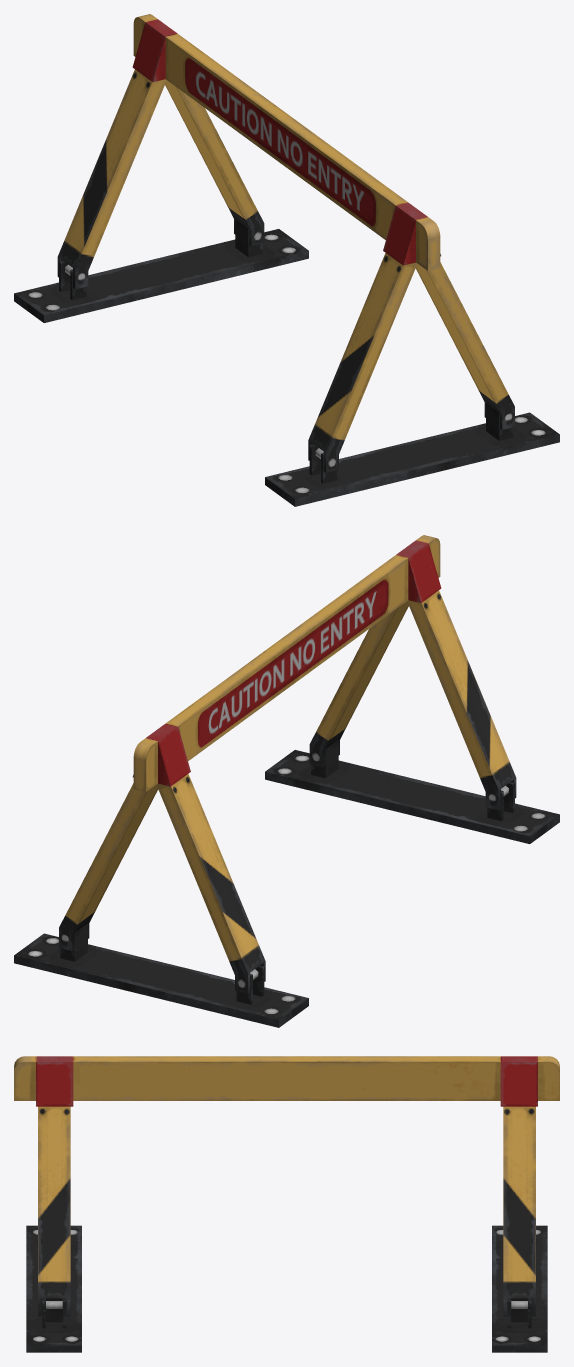
File: CP_Parking_Barrier.fbx
The picture shows the model from 3 angles, top to bottom: view 1: azimuth 30°, elevation 25°; view 2: azimuth 150°, elevation 25°; view 3: azimuth 270°, elevation 25°; orthographic projection. The views are drawn at different scales.
Parts seen in each view (by area): view 1: CP_Parking_Barrier_LOD0; view 2: CP_Parking_Barrier_LOD0; view 3: CP_Parking_Barrier_LOD0.
Part boxes in pixels (x1,y1,x2,y2): CP_Parking_Barrier_LOD0: [14, 14, 559, 506]; CP_Parking_Barrier_LOD0: [14, 535, 559, 1027]; CP_Parking_Barrier_LOD0: [14, 1056, 559, 1352].
Size of what is drawn, in the model's own units: 109 by 99.12 by 210.
